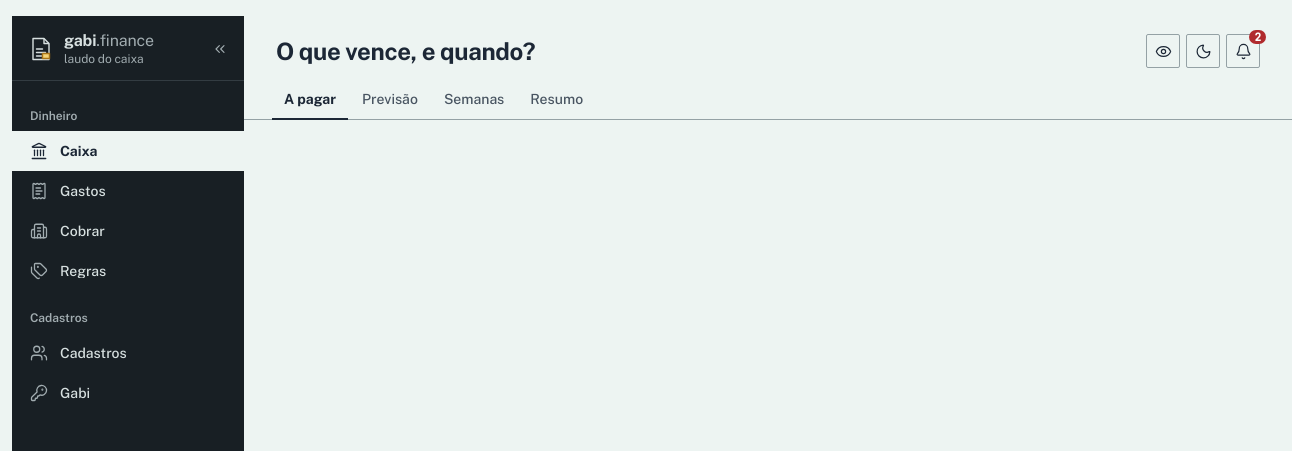
Test: o sino do Shell abre e fecha o painel de avisos
The image size is (1292, 451).
(page scrolled)
Expected: the text "painel-de-avisos" is not shown
Click the button named "Alertas" at (1243, 51), box [1226,34,1260,68]
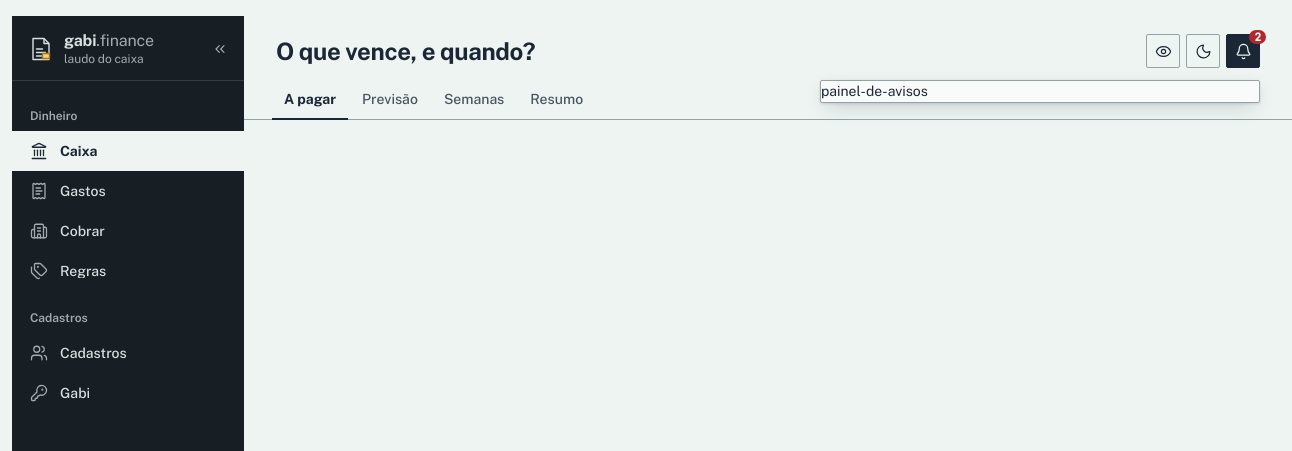
Now the text "painel-de-avisos" is shown, box [821,83,928,99]
Click the button named "Alertas" at (1243, 51), box [1226,34,1260,68]
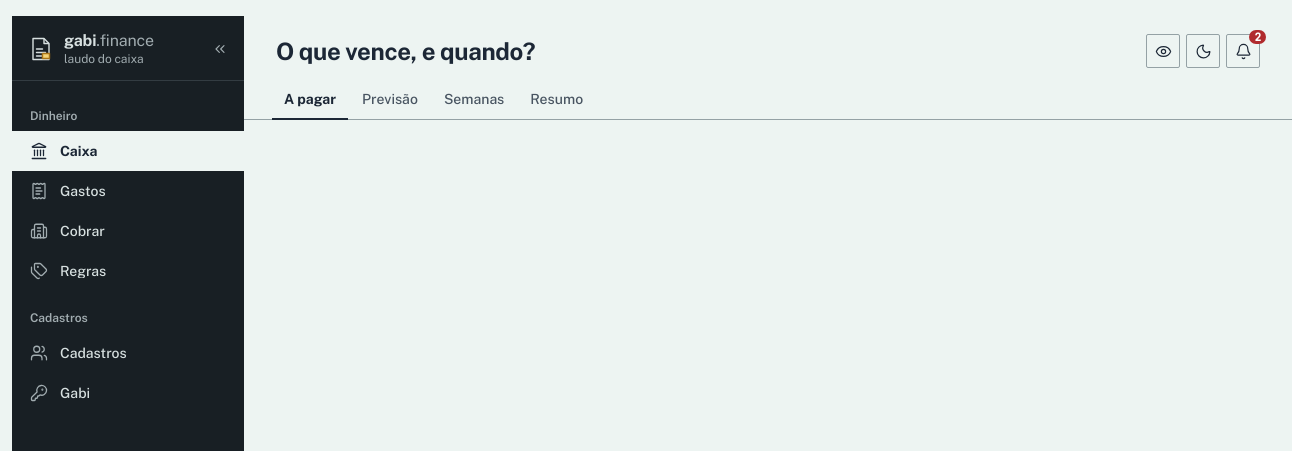
Now the text "painel-de-avisos" is gone
